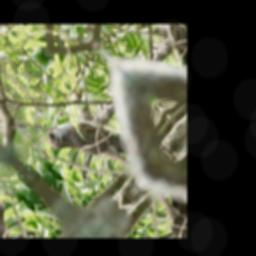Cuckoo: (36, 91, 142, 199)
